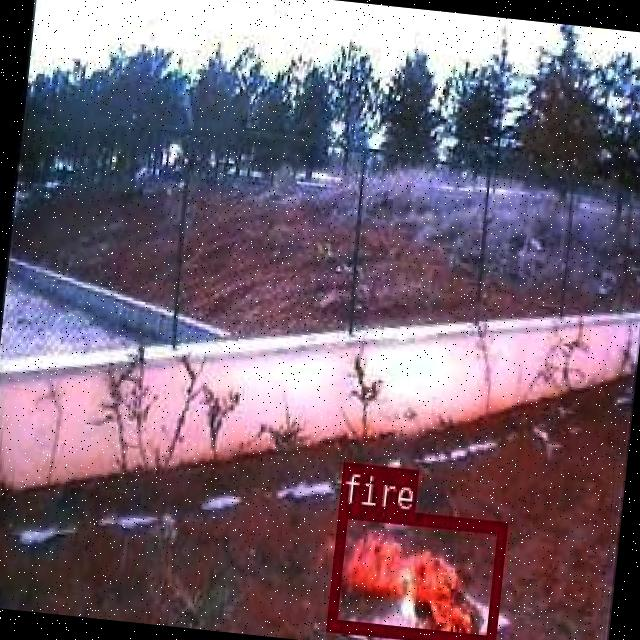fire: (325, 502, 505, 640)
